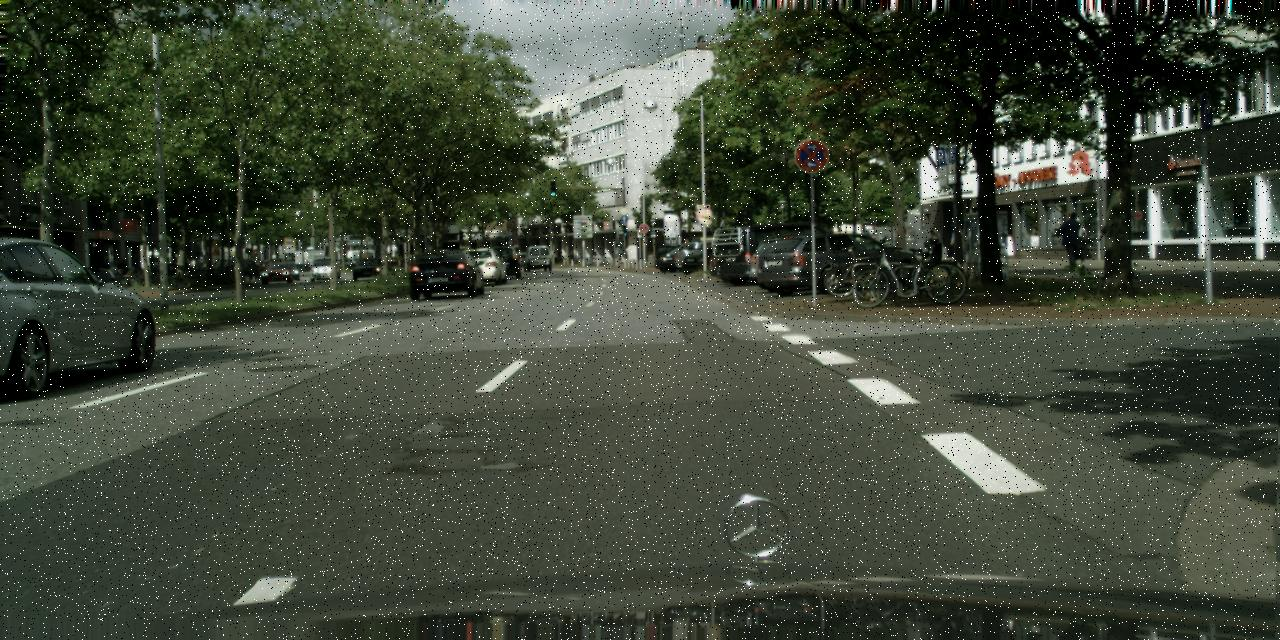ped: (1060, 211, 1084, 269), (1067, 216, 1087, 267), (1104, 218, 1123, 267), (927, 228, 942, 264), (612, 242, 620, 262)
